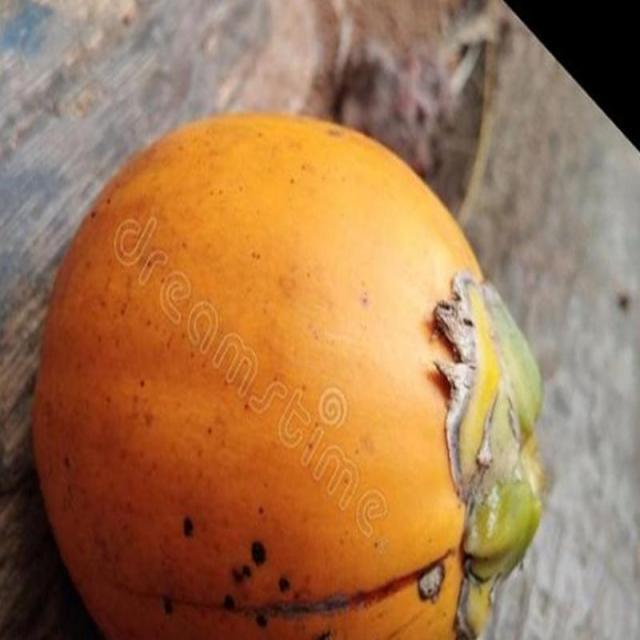good: (30, 114, 547, 639)
